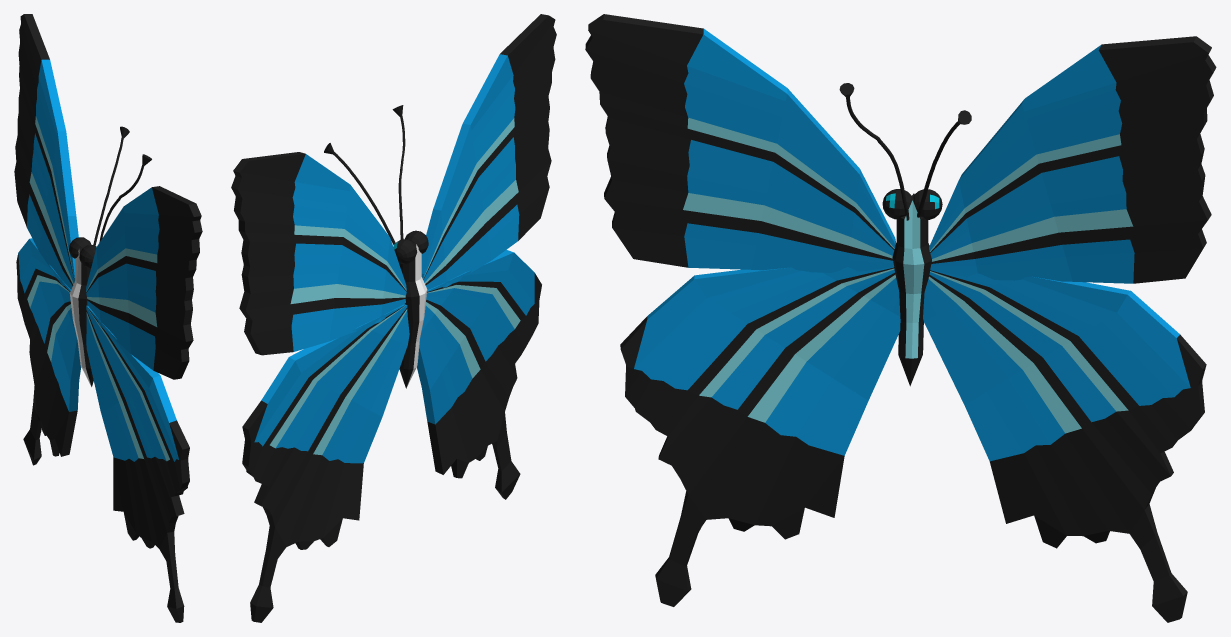
File: butterfly.fbx
3 renders of one model, left to right at view 1: azimuth 30°, elevation 25°; view 2: azimuth 150°, elevation 25°; view 3: azimuth 270°, elevation 25°, orthographic. The views are drawn at different scales.
Parts seen in each view (by area): view 1: mesh_2020521222, mesh_1324626464, mesh_1272943283, mesh_837311801, mesh_1325150470, group_1941241117, group_1435486495, mesh_1585110641, mesh_2079905638; view 2: mesh_1272943283, mesh_837311801, mesh_2020521222, mesh_1324626464, mesh_1325150470, group_1435486495, group_1941241117, mesh_2079905638; view 3: mesh_1324626464, mesh_837311801, mesh_2020521222, mesh_1272943283, mesh_1325150470.
Boxes of the visible parts, x1,y1,x2,y2 form: mesh_2020521222: [86, 186, 202, 379]; mesh_1324626464: [86, 305, 189, 622]; mesh_1272943283: [14, 14, 78, 289]; mesh_837311801: [16, 238, 81, 465]; mesh_1325150470: [69, 247, 93, 386]; group_1941241117: [93, 126, 129, 245]; group_1435486495: [99, 154, 151, 242]; mesh_1585110641: [79, 245, 96, 268]; mesh_2079905638: [69, 237, 91, 258]; mesh_1272943283: [231, 152, 406, 355]; mesh_837311801: [242, 304, 409, 622]; mesh_2020521222: [421, 14, 556, 290]; mesh_1324626464: [417, 249, 541, 499]; mesh_1325150470: [399, 243, 427, 388]; group_1435486495: [392, 105, 405, 239]; group_1941241117: [324, 143, 395, 245]; mesh_2079905638: [393, 239, 417, 263]; mesh_1324626464: [620, 267, 900, 606]; mesh_837311801: [923, 270, 1206, 622]; mesh_2020521222: [585, 14, 895, 272]; mesh_1272943283: [929, 36, 1216, 283]; mesh_1325150470: [892, 193, 931, 386].
Bounding box in the file's own units: 30.74 × 167 × 159.
